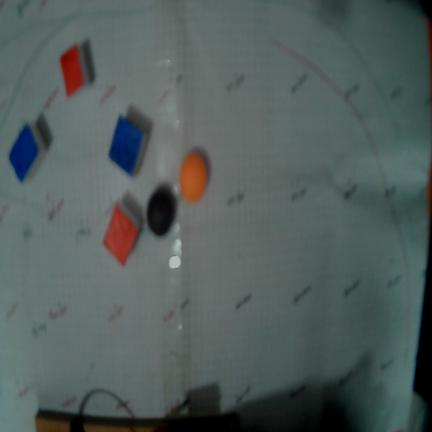circle_blue: (147, 187, 175, 235)
circle_orange: (179, 152, 208, 202)
rectangle_blue: (10, 125, 38, 181)
rectangle_orange: (61, 45, 84, 95)
square_blue: (109, 116, 144, 175)
square_orange: (104, 204, 139, 265)
